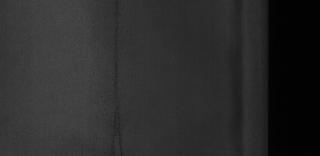silk spot: (104, 4, 138, 154)
